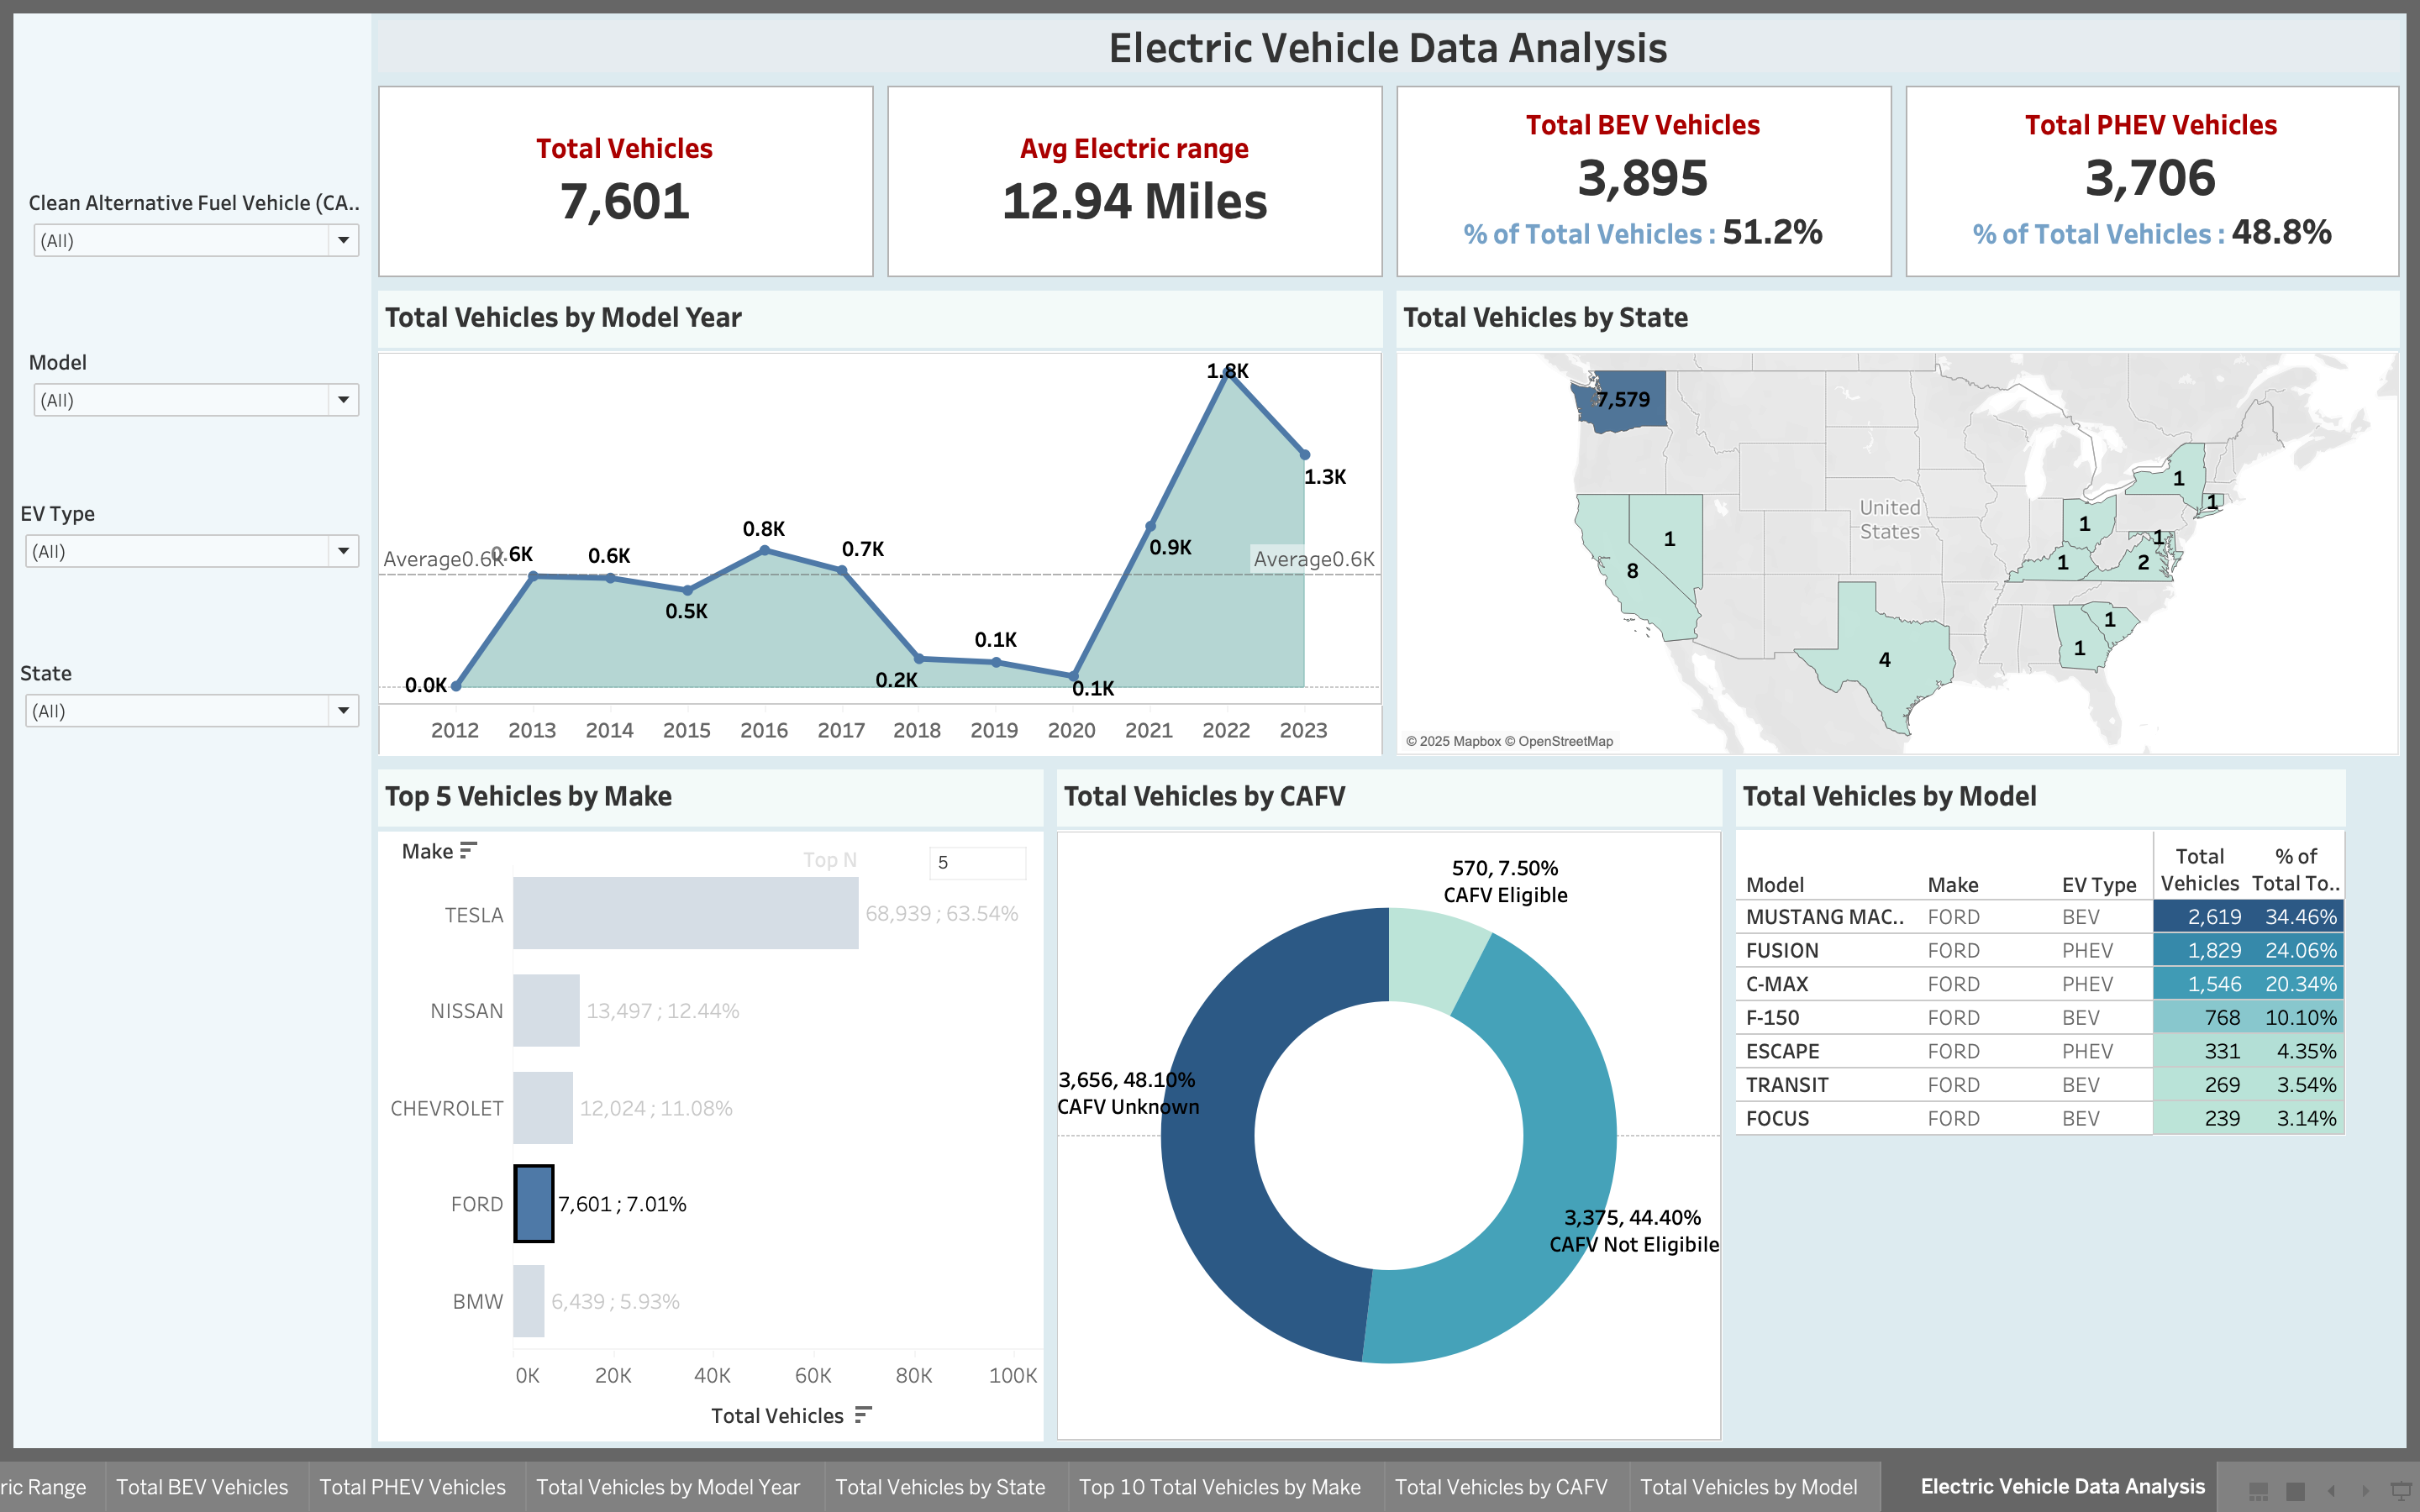

This screenshot's page, from the dashboard's own definition file:
{"tool":"tableau","page":{"name":"Electric Vehicle Data Analysis","canvas":[1000,1000],"units":"permille","ordinal":0},"visuals":[{"type":"blank","box":[6.5,9.9,147.3,108.9]},{"type":"title","box":[154.2,9.9,839.3,44.3]},{"type":"worksheet","title":"Total Vehicles","mark":"Automatic","box":[153.8,54.5,209.9,151]},{"type":"worksheet","title":"Avg Electric Range","mark":"Automatic","box":[363.7,54.5,209.9,151]},{"type":"worksheet","title":"Total BEV Vehicles","mark":"Automatic","box":[573.6,54.5,209.9,151]},{"type":"worksheet","title":"Total PHEV Vehicles","mark":"Automatic","box":[783.6,54.5,209.9,151]},{"type":"filter","title":"Total Vehicles by Model Year","param":"[federated.15hrmeq01z6j1t16xofjb0hndxo7].[none:Clean Alternative Fuel Vehicle (C","box":[6.5,118.8,147.3,108.9]},{"type":"worksheet","title":"Total Vehicles by Model Year","mark":"Automatic","rows":["Calculation_4199958516955369472","Calculation_4199958516955369472"],"cols":["Model Year"],"box":[153.8,205.5,419.9,352.7]},{"type":"worksheet","title":"Total Vehicles by State","mark":"Automatic","box":[573.6,205.5,419.9,352.7]},{"type":"filter","title":"Total Vehicles by Model Year","param":"[federated.15hrmeq01z6j1t16xofjb0hndxo7].[none:Model:nk]","box":[6.5,227.7,147.3,108.9]},{"type":"filter","title":"Total Vehicles by Model Year","param":"[federated.15hrmeq01z6j1t16xofjb0hndxo7].[none:Electric Vehicle Type:nk]","box":[6.5,336.6,147.3,108.9]},{"type":"filter","title":"Total Vehicles by Model Year","param":"[federated.15hrmeq01z6j1t16xofjb0hndxo7].[none:State:nk]","box":[6.5,445.5,147.3,108.9]},{"type":"blank","box":[6.5,554.5,147.3,108.9]},{"type":"worksheet","title":"Top 10 Total Vehicles by Make","mark":"Automatic","rows":["Make"],"cols":["Calculation_4199958516955369472"],"box":[153.8,558.2,279.9,431.9]},{"type":"worksheet","title":"Total Vehicles by CAFV","mark":"Pie","rows":["Calculation_4199958517015515145","Calculation_4199958517015515145"],"box":[433.7,558.2,279.9,431.9]},{"type":"worksheet","title":"Total Vehicles by Model","mark":"Square","rows":["Model","Make","Electric Vehicle Type"],"box":[713.6,558.2,279.9,431.9]},{"type":"parameter","param":"[Parameters].[Parameter 1]","box":[332.1,576.2,94.3,40]},{"type":"blank","box":[6.5,663.4,147.3,108.9]},{"type":"blank","box":[6.5,772.3,147.3,108.9]},{"type":"blank","box":[6.5,881.2,147.3,108.9]}]}

Visuals, with their boxes on the dashboard's canvas, which has no fixed pixel size, in thousandths of its width and height (x1, y1, x2, y2). These are canvas units, not pixel positions in the 2420x1512 screenshot, which may show the page scaled, cropped or inside an application window:
blank: l=6, t=10, r=154, b=119
title: l=154, t=10, r=994, b=54
"Total Vehicles" worksheet: l=154, t=54, r=364, b=206
"Avg Electric Range" worksheet: l=364, t=54, r=574, b=206
"Total BEV Vehicles" worksheet: l=574, t=54, r=784, b=206
"Total PHEV Vehicles" worksheet: l=784, t=54, r=994, b=206
"Total Vehicles by Model Year" filter: l=6, t=119, r=154, b=228
"Total Vehicles by Model Year" worksheet: l=154, t=206, r=574, b=558
"Total Vehicles by State" worksheet: l=574, t=206, r=994, b=558
"Total Vehicles by Model Year" filter: l=6, t=228, r=154, b=337
"Total Vehicles by Model Year" filter: l=6, t=337, r=154, b=446
"Total Vehicles by Model Year" filter: l=6, t=446, r=154, b=554
blank: l=6, t=554, r=154, b=663
"Top 10 Total Vehicles by Make" worksheet: l=154, t=558, r=434, b=990
"Total Vehicles by CAFV" worksheet (Pie marks): l=434, t=558, r=714, b=990
"Total Vehicles by Model" worksheet (Square marks): l=714, t=558, r=994, b=990
parameter: l=332, t=576, r=426, b=616
blank: l=6, t=663, r=154, b=772
blank: l=6, t=772, r=154, b=881
blank: l=6, t=881, r=154, b=990
